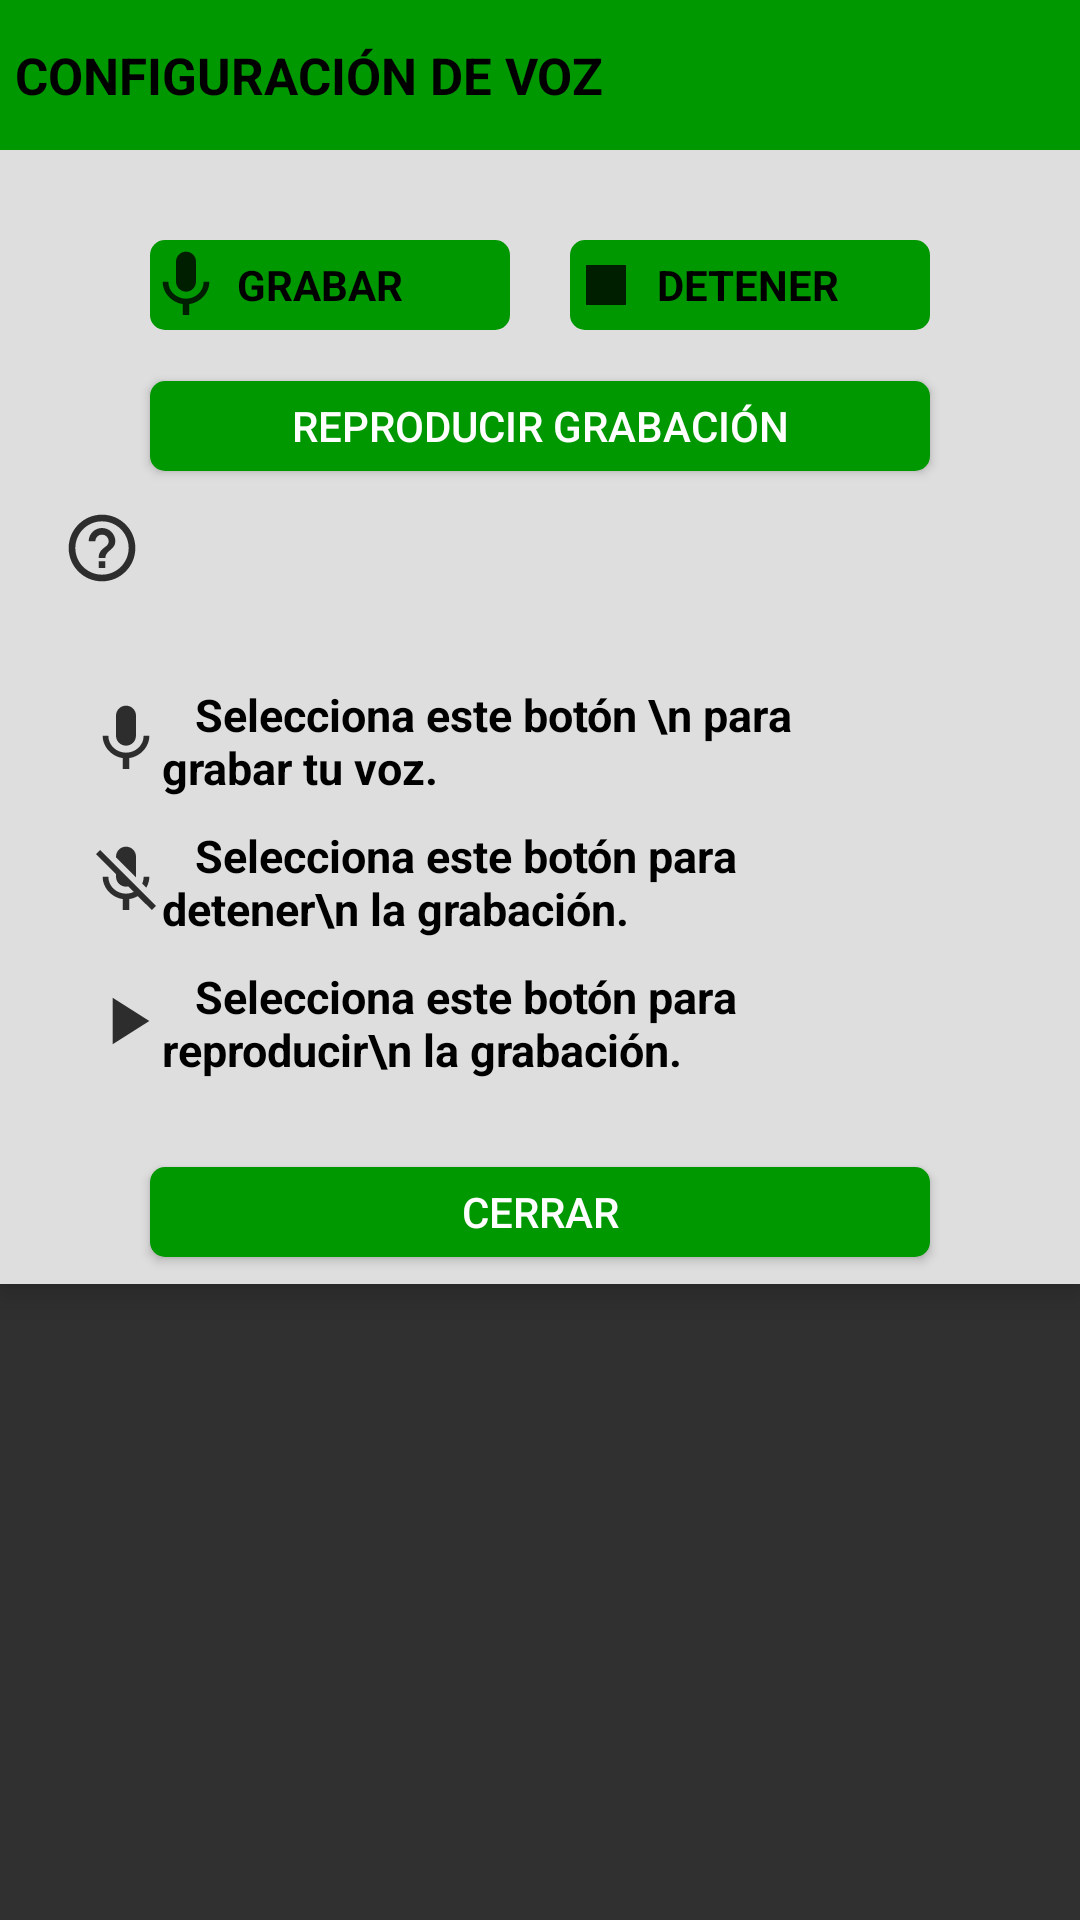

Screen size 1080*1920. Icon name, then its box in pixels as (x1=x1, y1=y1, x2=x2, y2=y2):
help: (x1=68, y1=514, x2=136, y2=582)
